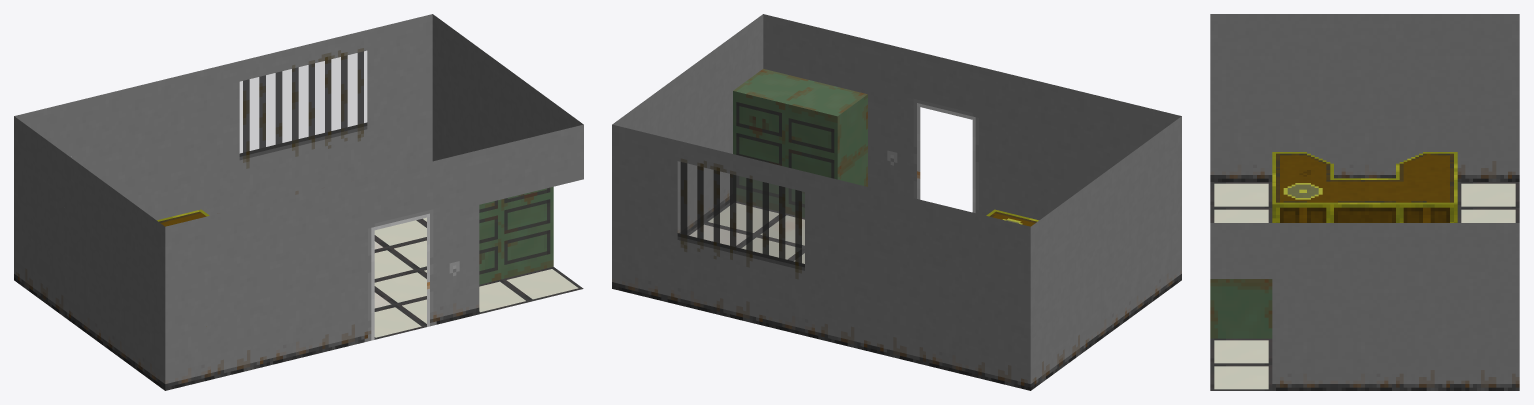
Rendered from office.glb.
The picture shows the model from 3 angles, left to right: view 1: azimuth 30°, elevation 25°; view 2: azimuth 150°, elevation 25°; view 3: azimuth 270°, elevation 25°; orthographic projection. The views are drawn at different scales.
Parts seen in each view (by area): view 1: Cube; view 2: Cube; view 3: Cube.
Part boxes in pixels (left/top/right/bottom): Cube: left=14, top=14, right=583, bottom=390; Cube: left=612, top=14, right=1181, bottom=390; Cube: left=1210, top=14, right=1519, bottom=390.
Size of the model in its own units: 4 by 1.5 by 2.5.
Materials: 1 (1 with a texture image).
